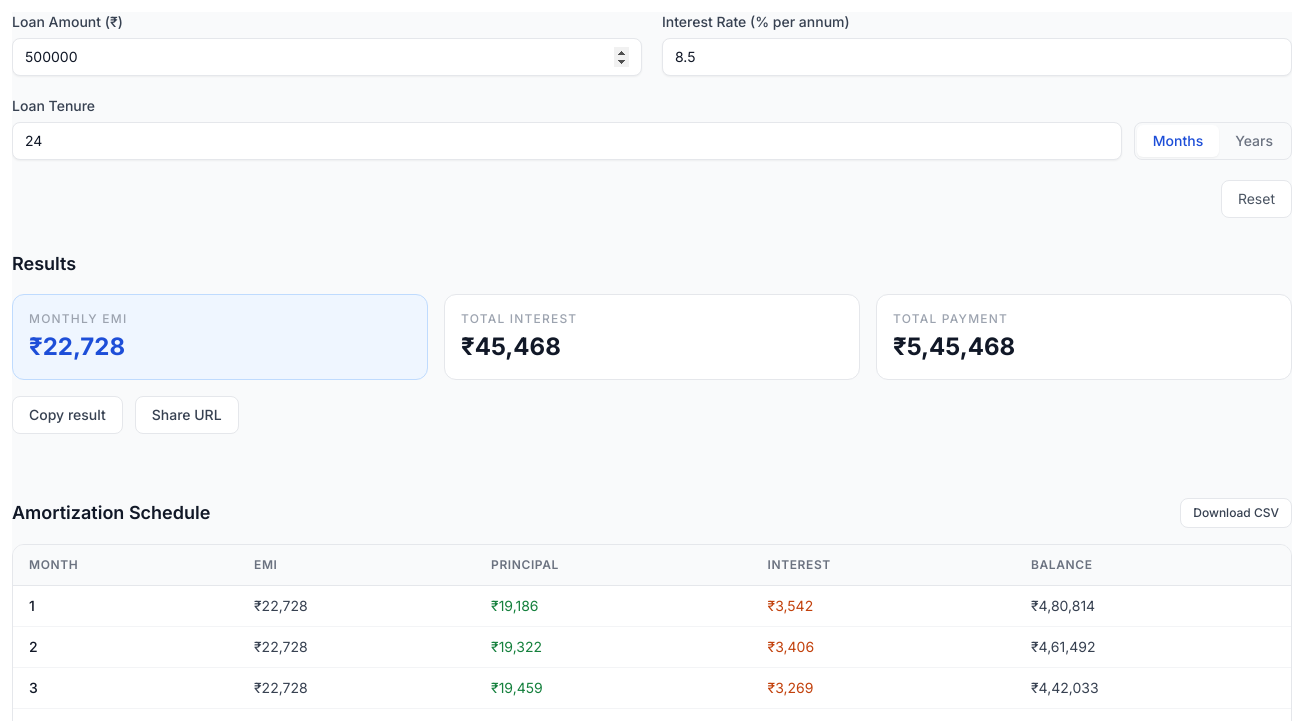
EMICalculator › reset button restores default amount value
This screenshot has width=1304, height=721.
Replace the text in the number field labelled "Loan Amount (₹)" with "999". click: [327, 57]
box: [12,38,642,76]
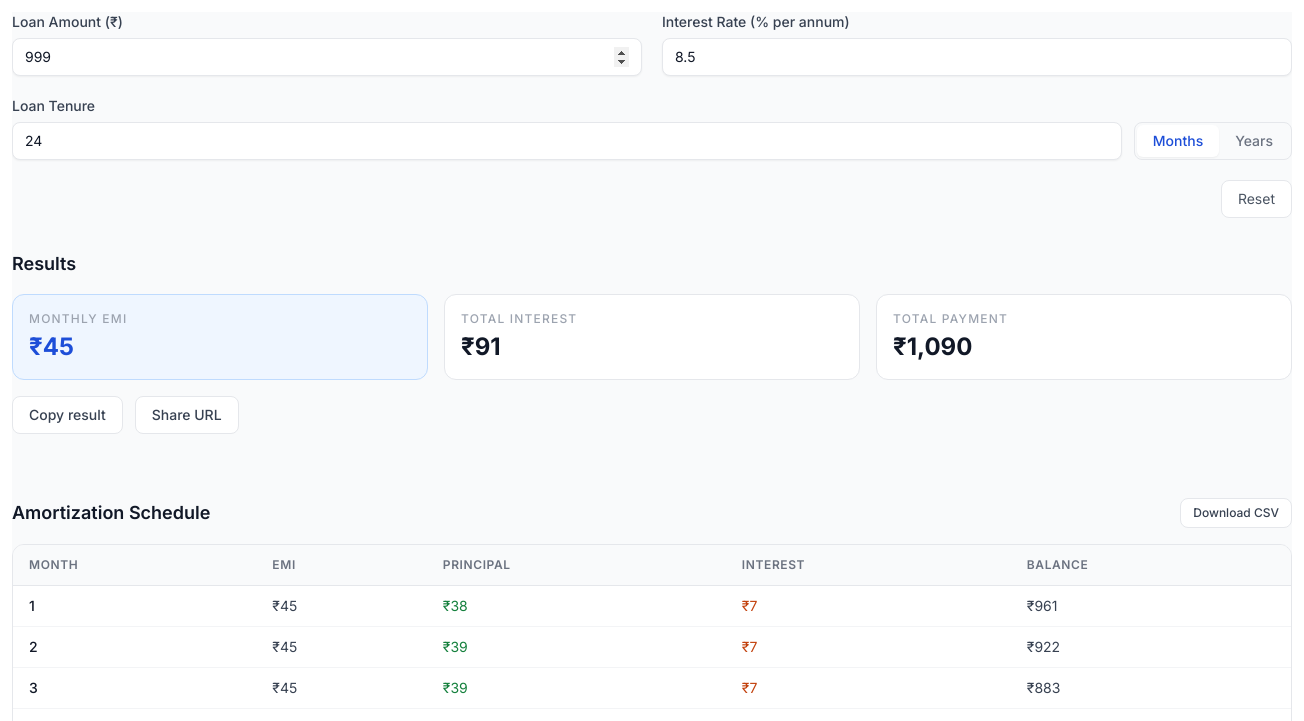
Click the button "Reset". click: [1256, 199]
box: [1221,180,1292,218]
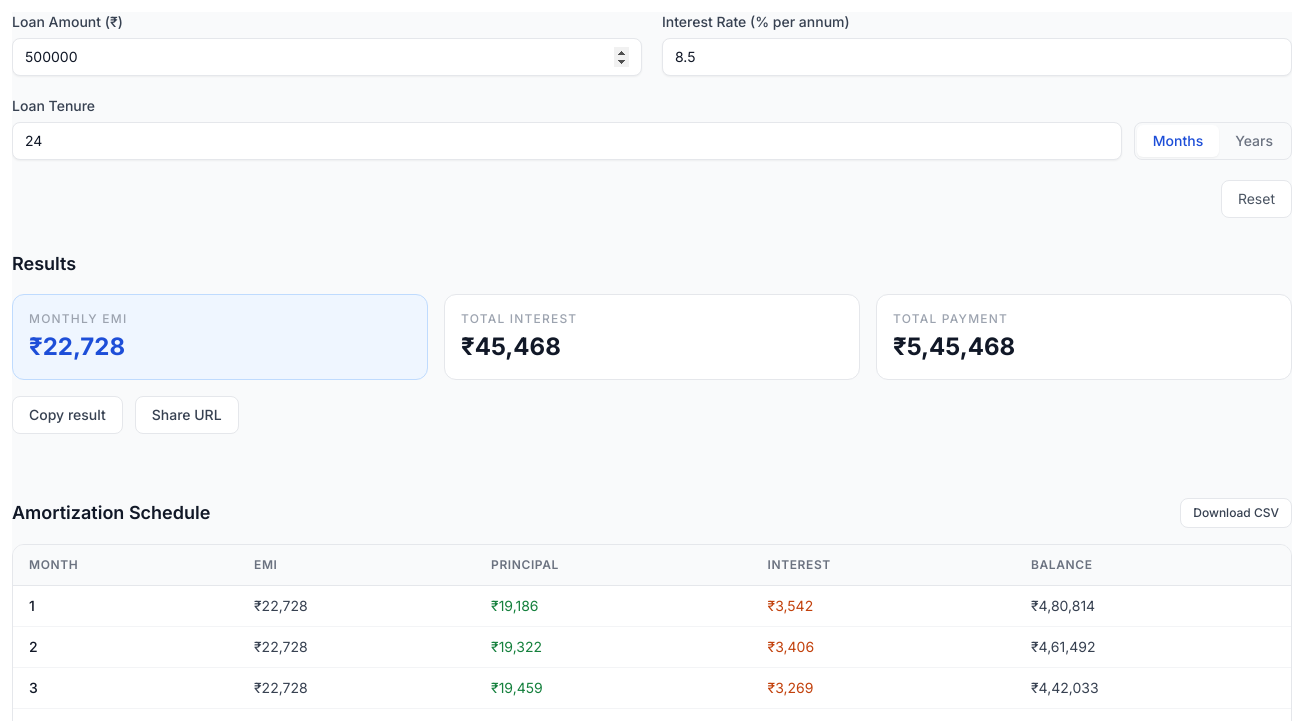
Expected: the number field labelled "Loan Amount (₹)" holds "500000", [12,38,642,76]
